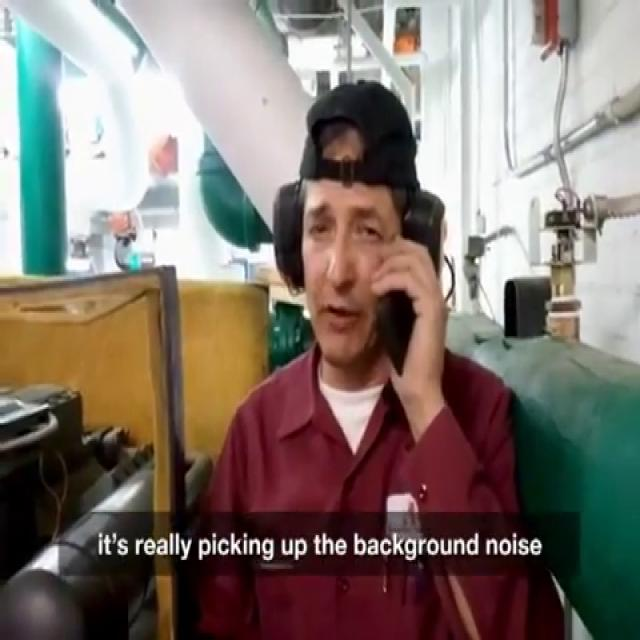earmuff: (269, 175, 311, 299)
